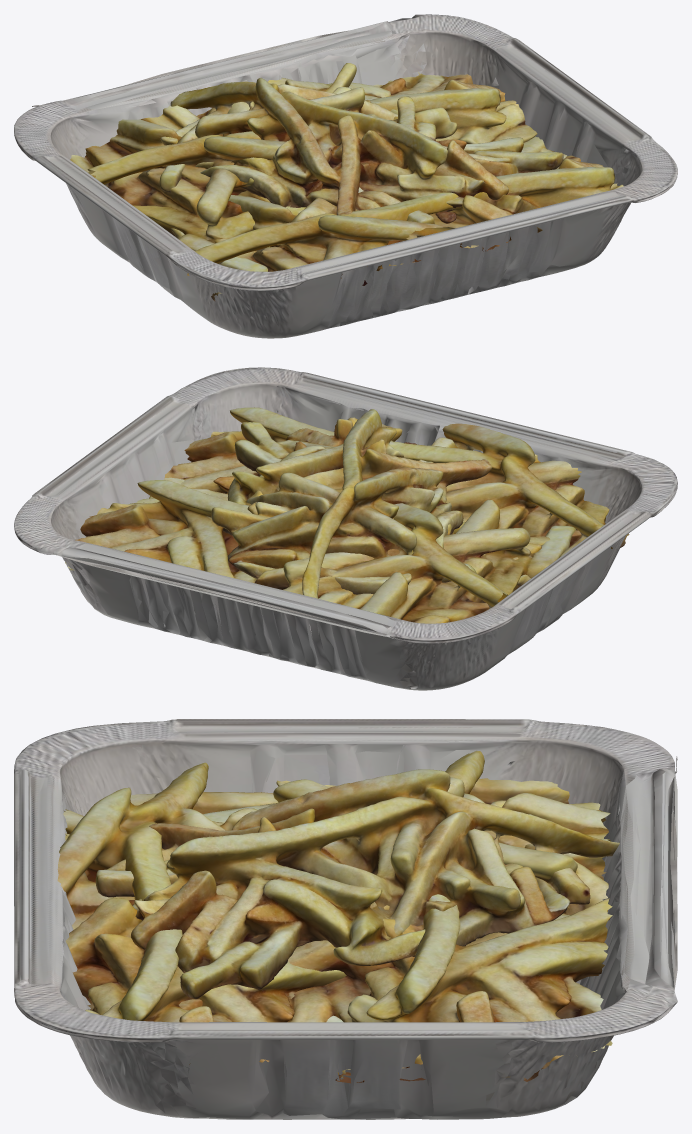
The model's file is fries.kg.glb.
3 views of the same model, one above another, from view 1: azimuth 30°, elevation 25°; view 2: azimuth 150°, elevation 25°; view 3: azimuth 270°, elevation 25° (orthographic). The views are drawn at different scales.
Visible parts, largest first — view 1: node_0, 3DModel.003, 3DModel.002, 3DModel; view 2: node_0, 3DModel.003, 3DModel.002, 3DModel; view 3: node_0, 3DModel.003, 3DModel.002, 3DModel.
Boxes of the visible parts, x1,y1,x2,y2 form: node_0: [14, 14, 677, 338]; 3DModel.003: [159, 63, 563, 223]; 3DModel.002: [70, 72, 566, 271]; 3DModel: [170, 136, 623, 301]; node_0: [14, 367, 677, 690]; 3DModel.003: [211, 409, 491, 598]; 3DModel.002: [65, 477, 576, 623]; 3DModel: [136, 407, 629, 585]; node_0: [14, 719, 677, 1119]; 3DModel.003: [95, 769, 619, 999]; 3DModel.002: [179, 750, 612, 1083]; 3DModel: [57, 762, 350, 1077].
Size of the model in its own units: 0.3397 by 0.0983 by 0.3003.
3 materials, 3 textured.
